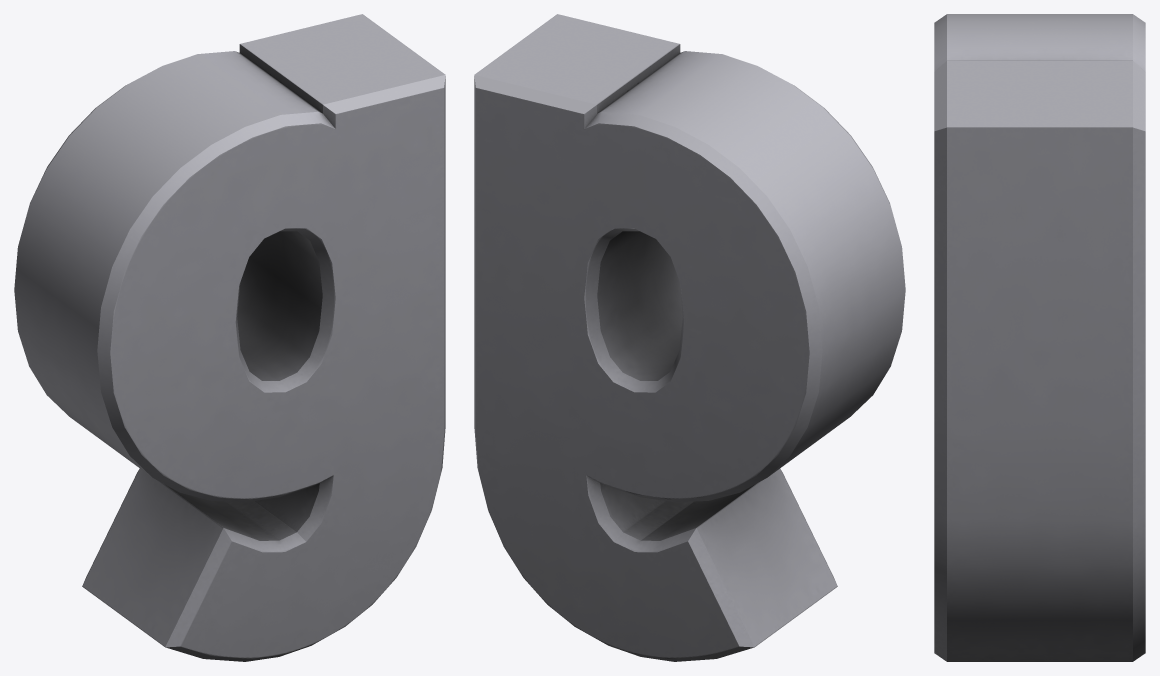
Rendered from g_lowc_static.fbx.
The picture shows the model from 3 angles, left to right: view 1: azimuth 30°, elevation 25°; view 2: azimuth 150°, elevation 25°; view 3: azimuth 270°, elevation 25°; orthographic projection. The views are drawn at different scales.
Parts seen in each view (by area): view 1: g_lowc_static; view 2: g_lowc_static; view 3: g_lowc_static.
Boxes of the visible parts, left/top/right/bottom form: g_lowc_static: left=14, top=14, right=445, bottom=661; g_lowc_static: left=474, top=14, right=905, bottom=661; g_lowc_static: left=934, top=14, right=1145, bottom=661.
Size of the model in its own units: 70.23 by 104 by 33.
